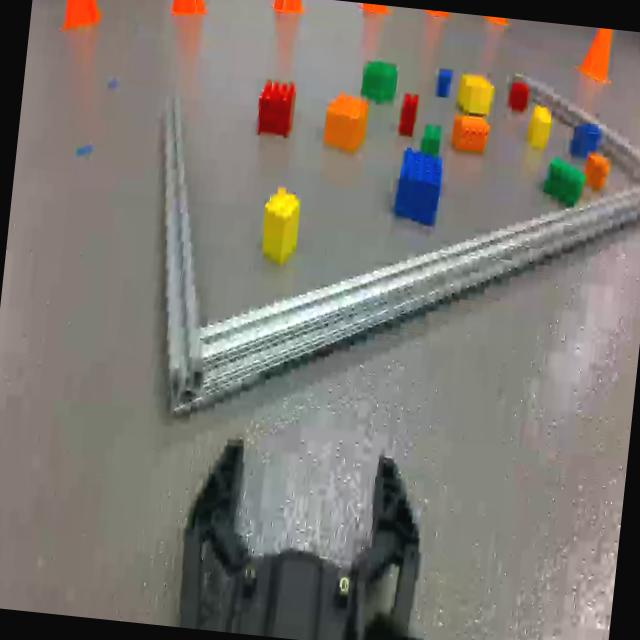block: (320, 88, 371, 162), (258, 184, 304, 266), (455, 72, 496, 116), (528, 105, 555, 151)
blue: (162, 96, 640, 429), (392, 150, 443, 228), (568, 118, 601, 162), (436, 66, 454, 97)
cone: (575, 26, 621, 81), (61, 0, 106, 35), (168, 0, 212, 22), (272, 0, 306, 20), (356, 2, 393, 18)
green: (542, 158, 586, 212), (360, 58, 400, 106), (418, 120, 442, 156)
orange: (444, 112, 494, 156), (585, 152, 611, 194)
red goal: (253, 75, 298, 146), (397, 87, 419, 137), (509, 80, 531, 113)
